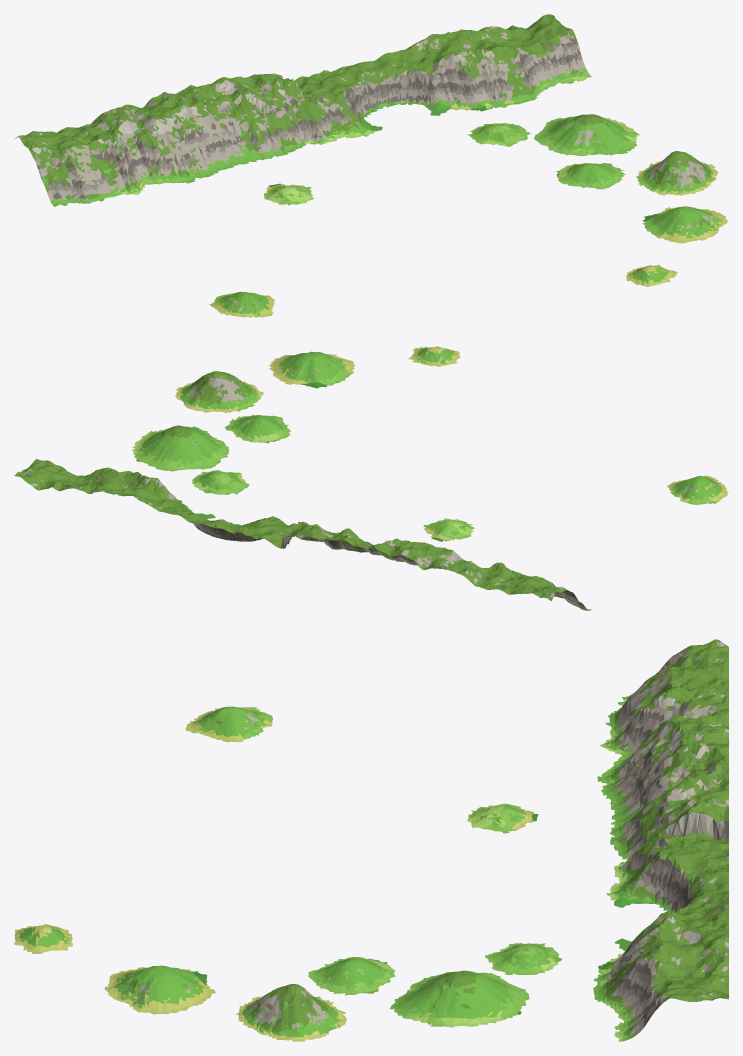
The model's file is Map-3-Relief.fbx.
The picture shows the model from 3 angles, top to bottom: view 1: azimuth 30°, elevation 25°; view 2: azimuth 150°, elevation 25°; view 3: azimuth 270°, elevation 25°; orthographic projection. The views are drawn at different scales.
Visible parts, largest first — view 1: Map-3-Relief-c13, Map-3-Relief-c03, Map-3-Relief-c33, Map-3-Relief-c23, Map-3-Relief-c32, Map-3-Relief-c31, Map-3-Relief-c01, Map-3-Relief-c12, Map-3-Relief-c20; view 2: Map-3-Relief-c32, Map-3-Relief-c31, Map-3-Relief-c33, Map-3-Relief-c03, Map-3-Relief-c23, Map-3-Relief-c13, Map-3-Relief-c01, Map-3-Relief-c20, Map-3-Relief-c12; view 3: Map-3-Relief-c33, Map-3-Relief-c13, Map-3-Relief-c32, Map-3-Relief-c03, Map-3-Relief-c23, Map-3-Relief-c31, Map-3-Relief-c01, Map-3-Relief-c20, Map-3-Relief-c12.
Boxes of the visible parts, bbox=[...] form: Map-3-Relief-c13: bbox=[148, 73, 324, 190]; Map-3-Relief-c03: bbox=[15, 102, 195, 206]; Map-3-Relief-c33: bbox=[417, 14, 591, 128]; Map-3-Relief-c23: bbox=[282, 42, 493, 143]; Map-3-Relief-c32: bbox=[494, 114, 661, 187]; Map-3-Relief-c31: bbox=[591, 151, 728, 242]; Map-3-Relief-c01: bbox=[209, 291, 274, 317]; Map-3-Relief-c12: bbox=[264, 184, 314, 205]; Map-3-Relief-c20: bbox=[626, 264, 677, 286]; Map-3-Relief-c32: bbox=[132, 391, 290, 477]; Map-3-Relief-c31: bbox=[175, 351, 354, 422]; Map-3-Relief-c33: bbox=[14, 459, 225, 505]; Map-3-Relief-c03: bbox=[417, 547, 591, 610]; Map-3-Relief-c23: bbox=[148, 477, 323, 548]; Map-3-Relief-c13: bbox=[283, 521, 451, 568]; Map-3-Relief-c01: bbox=[667, 475, 728, 504]; Map-3-Relief-c20: bbox=[407, 346, 460, 366]; Map-3-Relief-c12: bbox=[423, 518, 474, 539]; Map-3-Relief-c33: bbox=[524, 906, 728, 1041]; Map-3-Relief-c13: bbox=[524, 722, 728, 868]; Map-3-Relief-c32: bbox=[320, 946, 525, 1037]; Map-3-Relief-c03: bbox=[597, 639, 728, 783]; Map-3-Relief-c23: bbox=[524, 815, 728, 955]; Map-3-Relief-c31: bbox=[116, 965, 322, 1041]; Map-3-Relief-c01: bbox=[185, 706, 272, 742]; Map-3-Relief-c20: bbox=[14, 924, 72, 953]; Map-3-Relief-c12: bbox=[467, 803, 525, 833].
Bounding box in the file's own units: 200 × 17.85 × 175.
